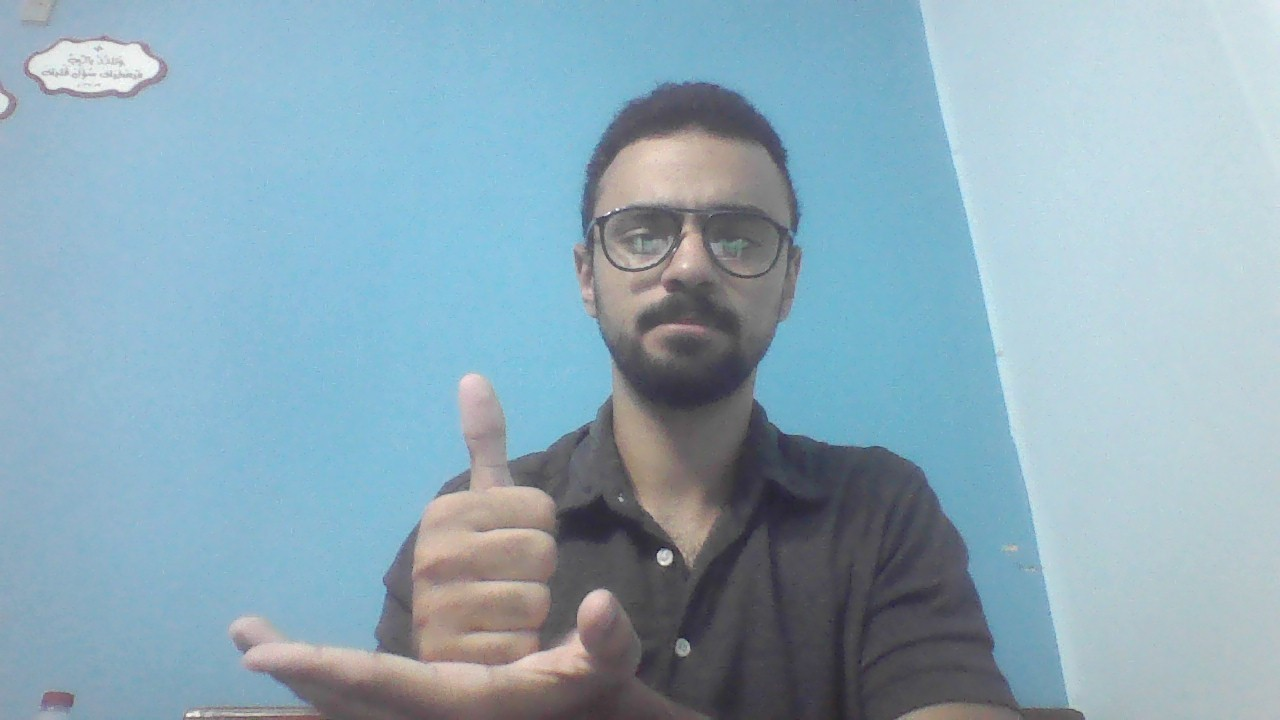help: (229, 369, 647, 720)
